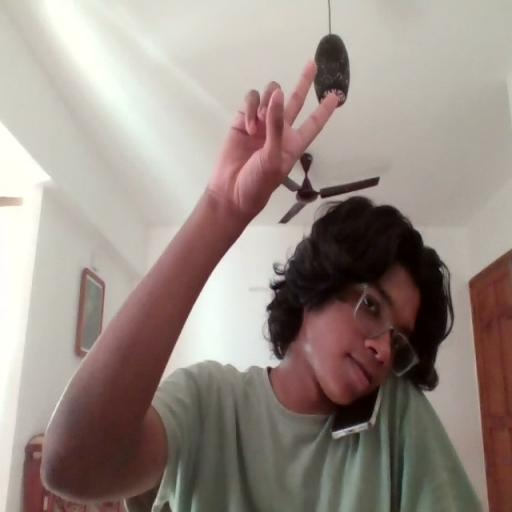scissor: (212, 58, 339, 220)
